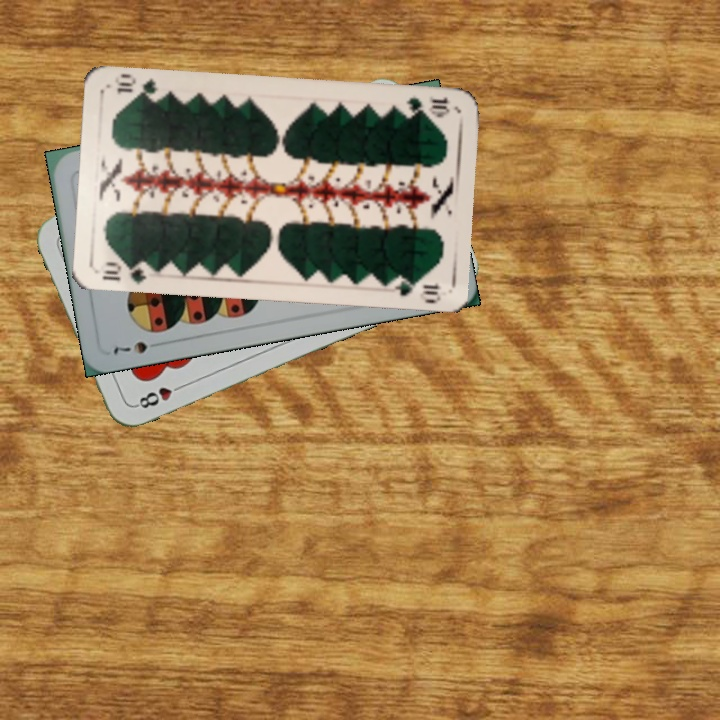G10: (97, 257, 149, 286), (396, 93, 452, 119)
H8: (131, 380, 187, 411)
S7: (109, 337, 150, 357)
